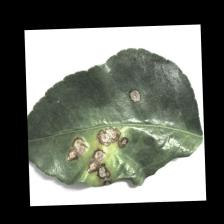canker: (53, 91, 148, 190)
